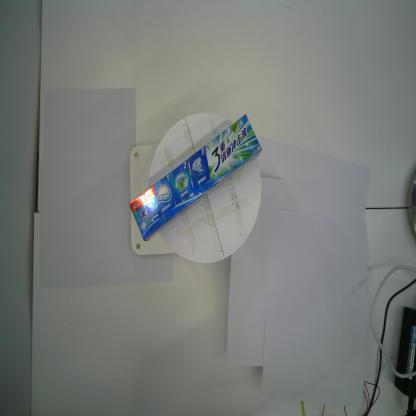Personal Hygiene: (130, 114, 262, 242)
